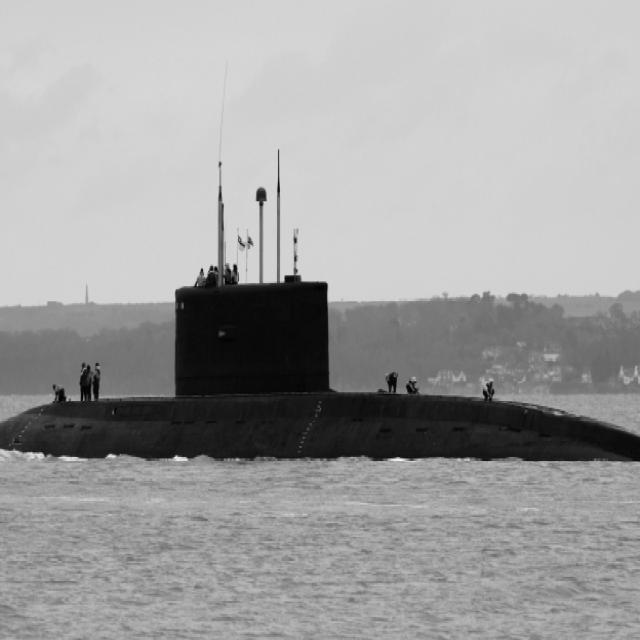submarine: (1, 279, 640, 461)
